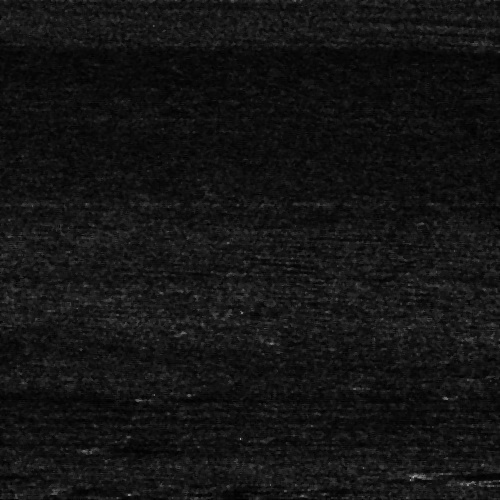rock: (379, 468, 462, 477), (455, 478, 500, 485), (443, 495, 496, 500), (470, 36, 500, 41), (86, 498, 127, 500)
shadow: (421, 468, 500, 477), (107, 498, 224, 500), (470, 495, 500, 500), (0, 470, 23, 475)
